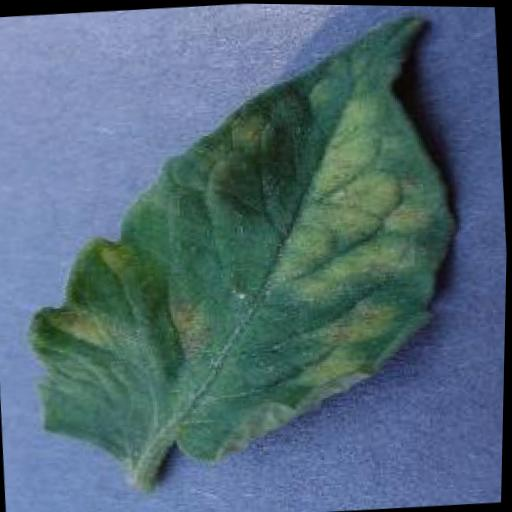Leaf Mold: (10, 6, 472, 476)
